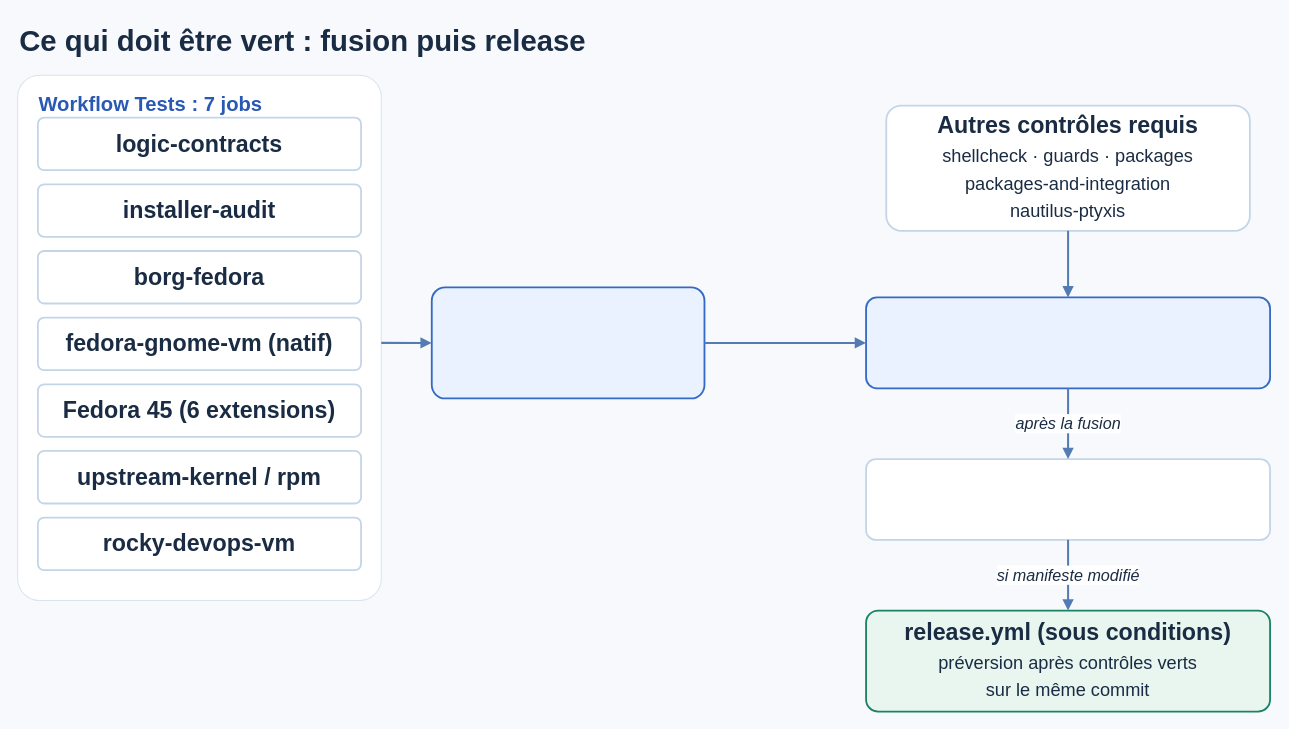
Some shapes in this 1289 by 729 pixel diagram are drawn without their labels. Each missing label, with the centre of its shape:
contracts exige les 7 succès PR de doc. : VM sautées: [567,342]
Fusion autorisée 6 contextes obligatoires verts: [1067,342]
push sur main mêmes workflows + Security scanning: [1067,499]
